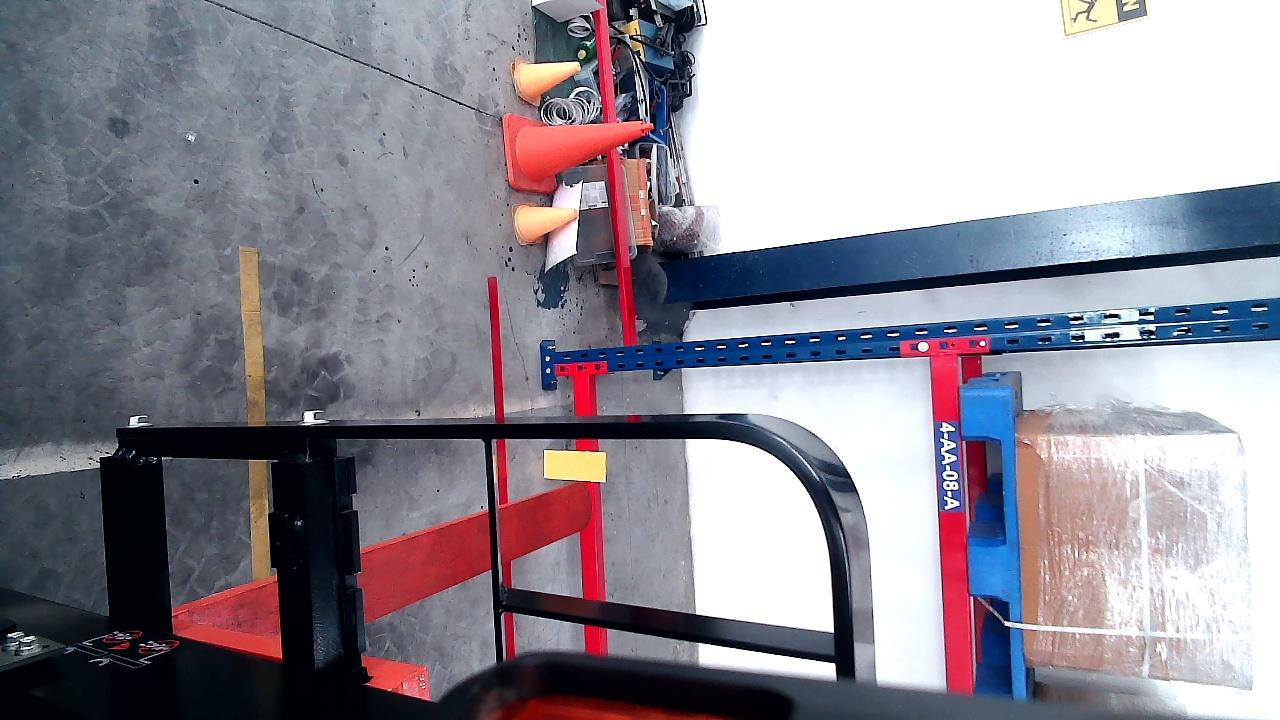red_line: (488, 282, 518, 654)
yellow_line: (240, 238, 267, 577)
